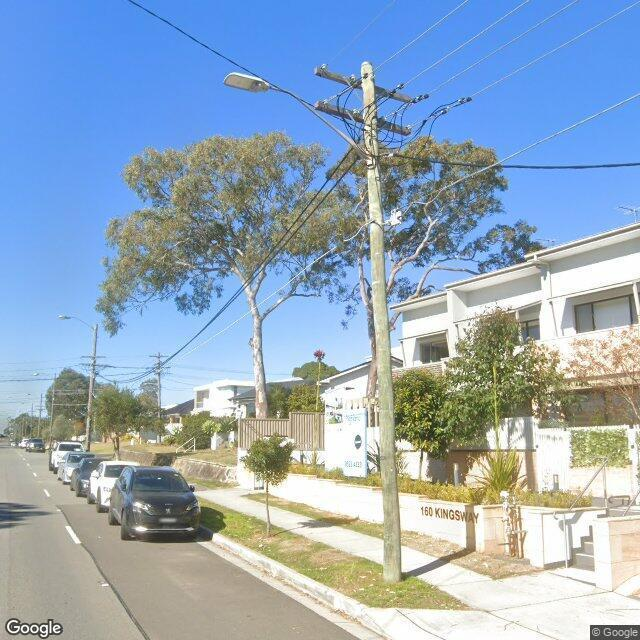crossarm: (314, 67, 416, 105), (315, 100, 411, 138), (78, 363, 110, 368), (80, 355, 106, 359), (144, 366, 171, 369), (149, 355, 168, 358)
streetlight: (222, 72, 369, 158), (57, 315, 94, 329), (31, 372, 54, 381)
timber-pole: (361, 62, 402, 582), (84, 324, 98, 451), (50, 372, 56, 441), (157, 352, 160, 446), (37, 394, 43, 438)
